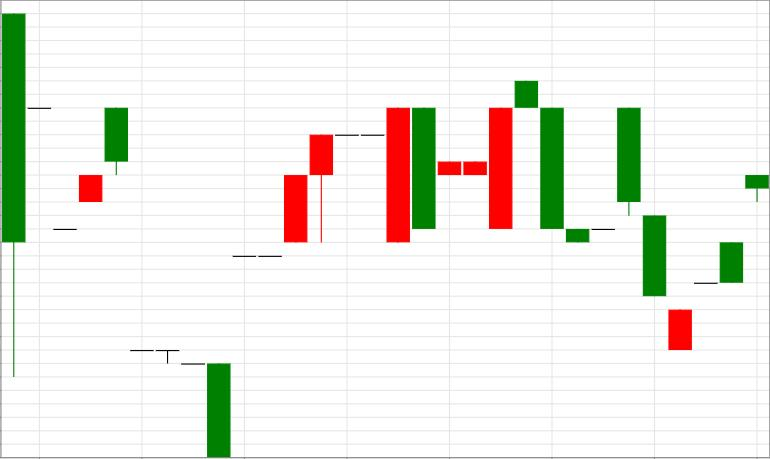hanging_man_fall: (207, 134, 333, 458)
